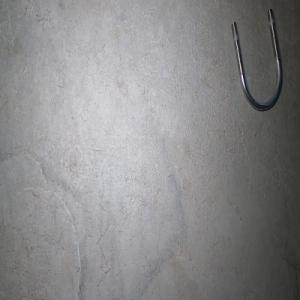ClampPart: (230, 8, 283, 112)
